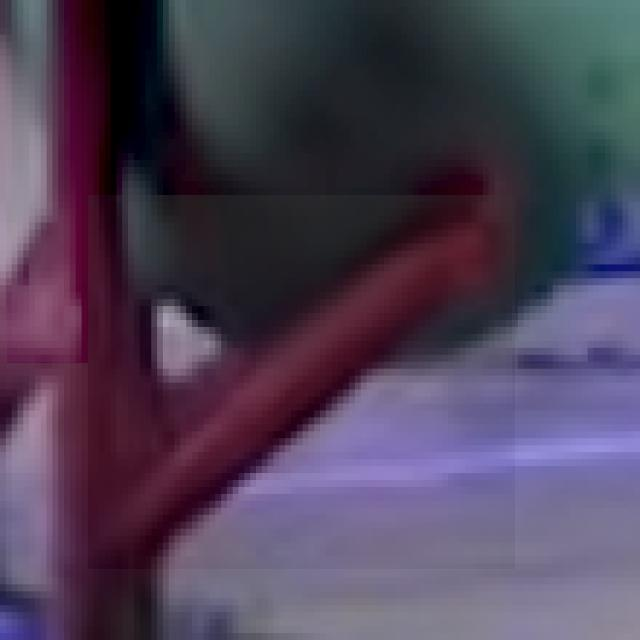Algae: (7, 0, 640, 363)
Reef: (88, 195, 515, 569)
